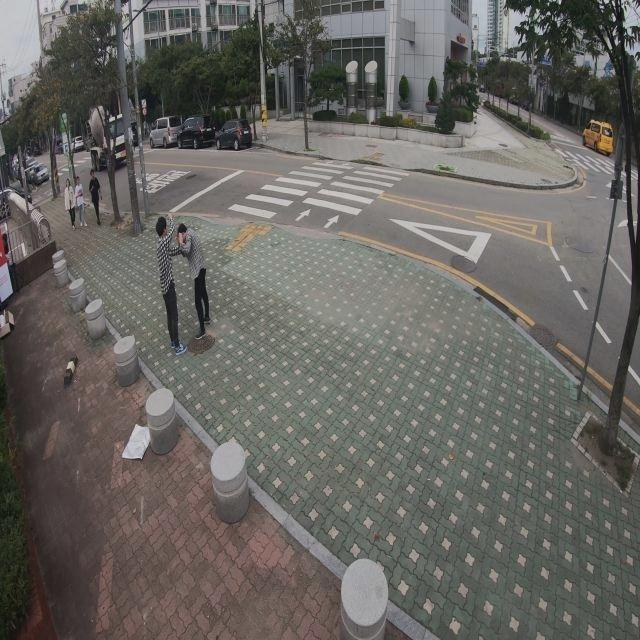fight: (154, 216, 211, 352)
non-fight: (86, 166, 105, 225), (73, 176, 88, 227), (62, 178, 77, 228)
